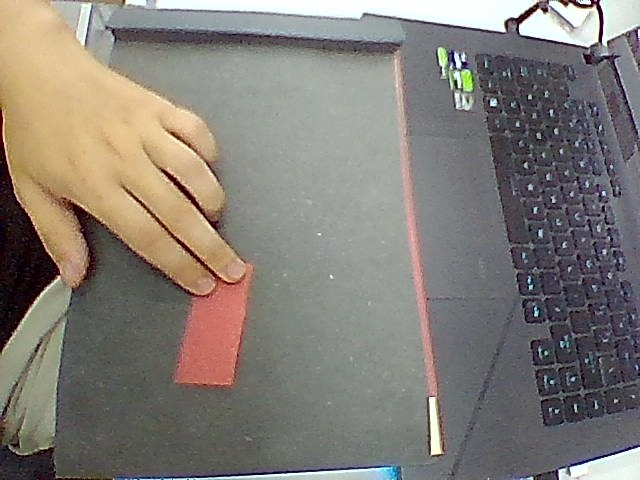card: (174, 264, 252, 387)
